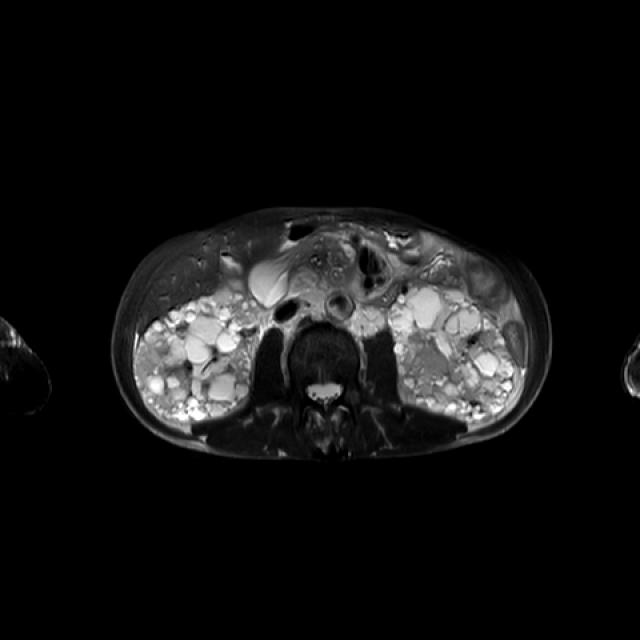sag: (131, 288, 266, 423)
sol: (388, 282, 515, 422)
